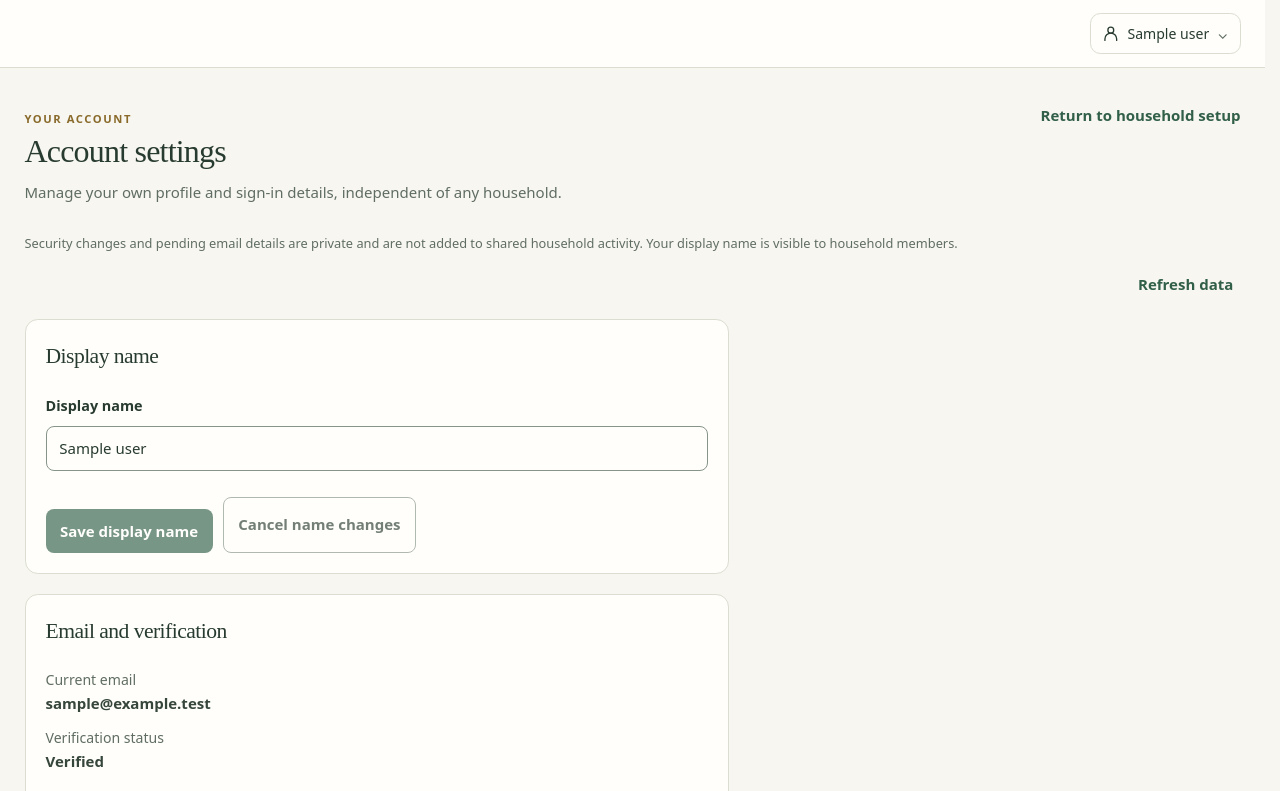
Scenario: full app verification gate › does not remount or discard an edit when household loading finishes after account settings appear
Replace the text in the field labelled "Display name" with "Keep this account edit" at (376, 448), box [46, 426, 708, 471]
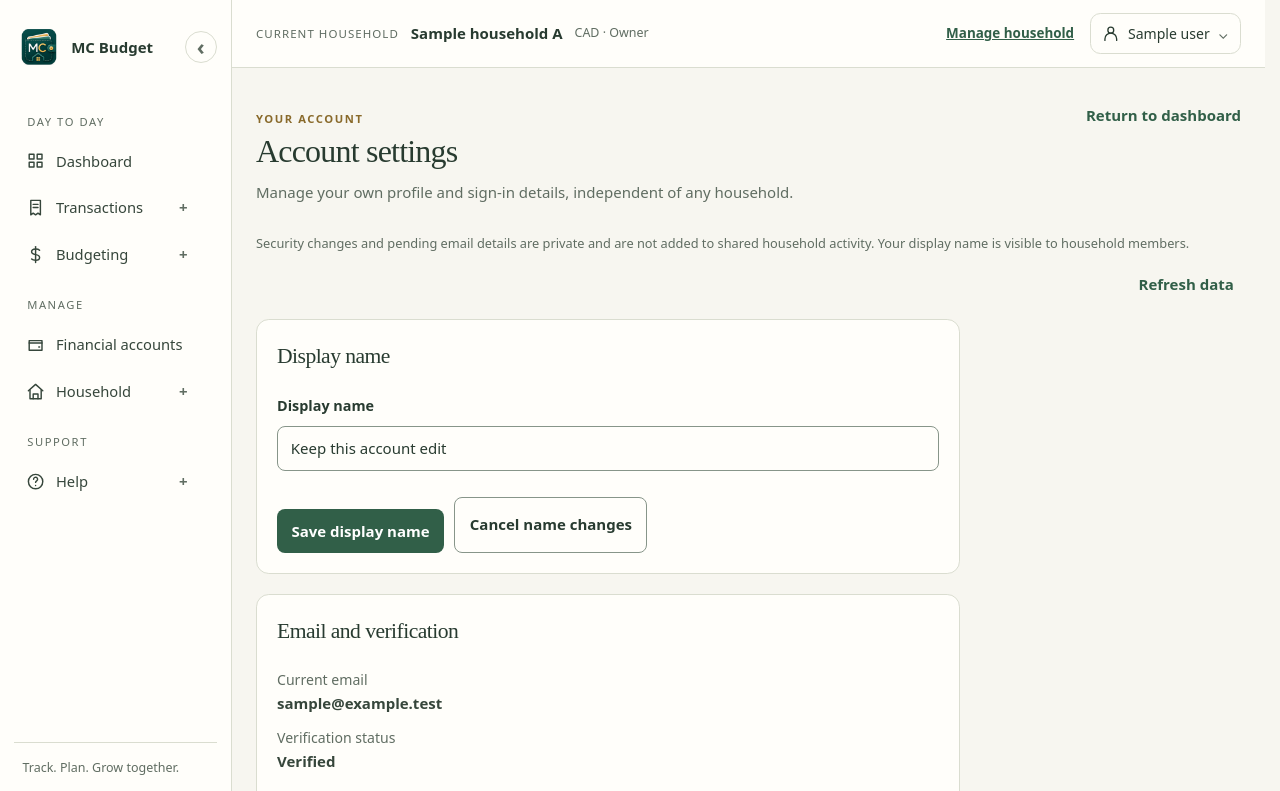
Check: the navigation bar named "Main navigation" is shown, box [14, 96, 217, 503]
